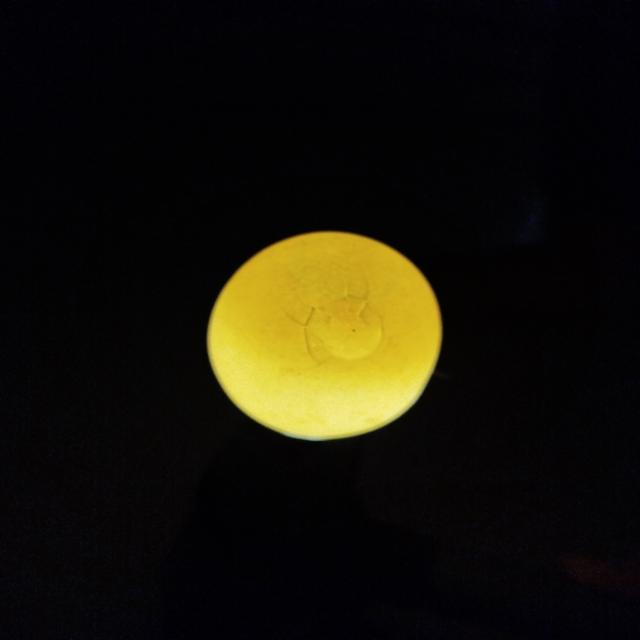Rachadura: (285, 277, 410, 378)
